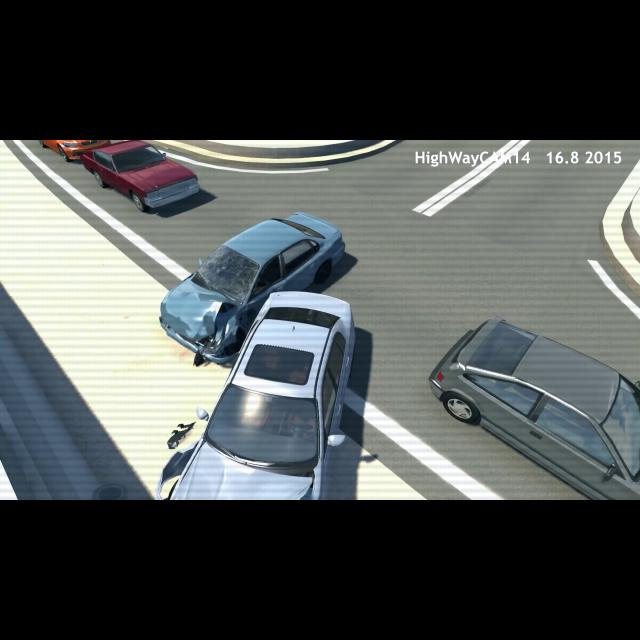accident: (150, 212, 363, 499)
